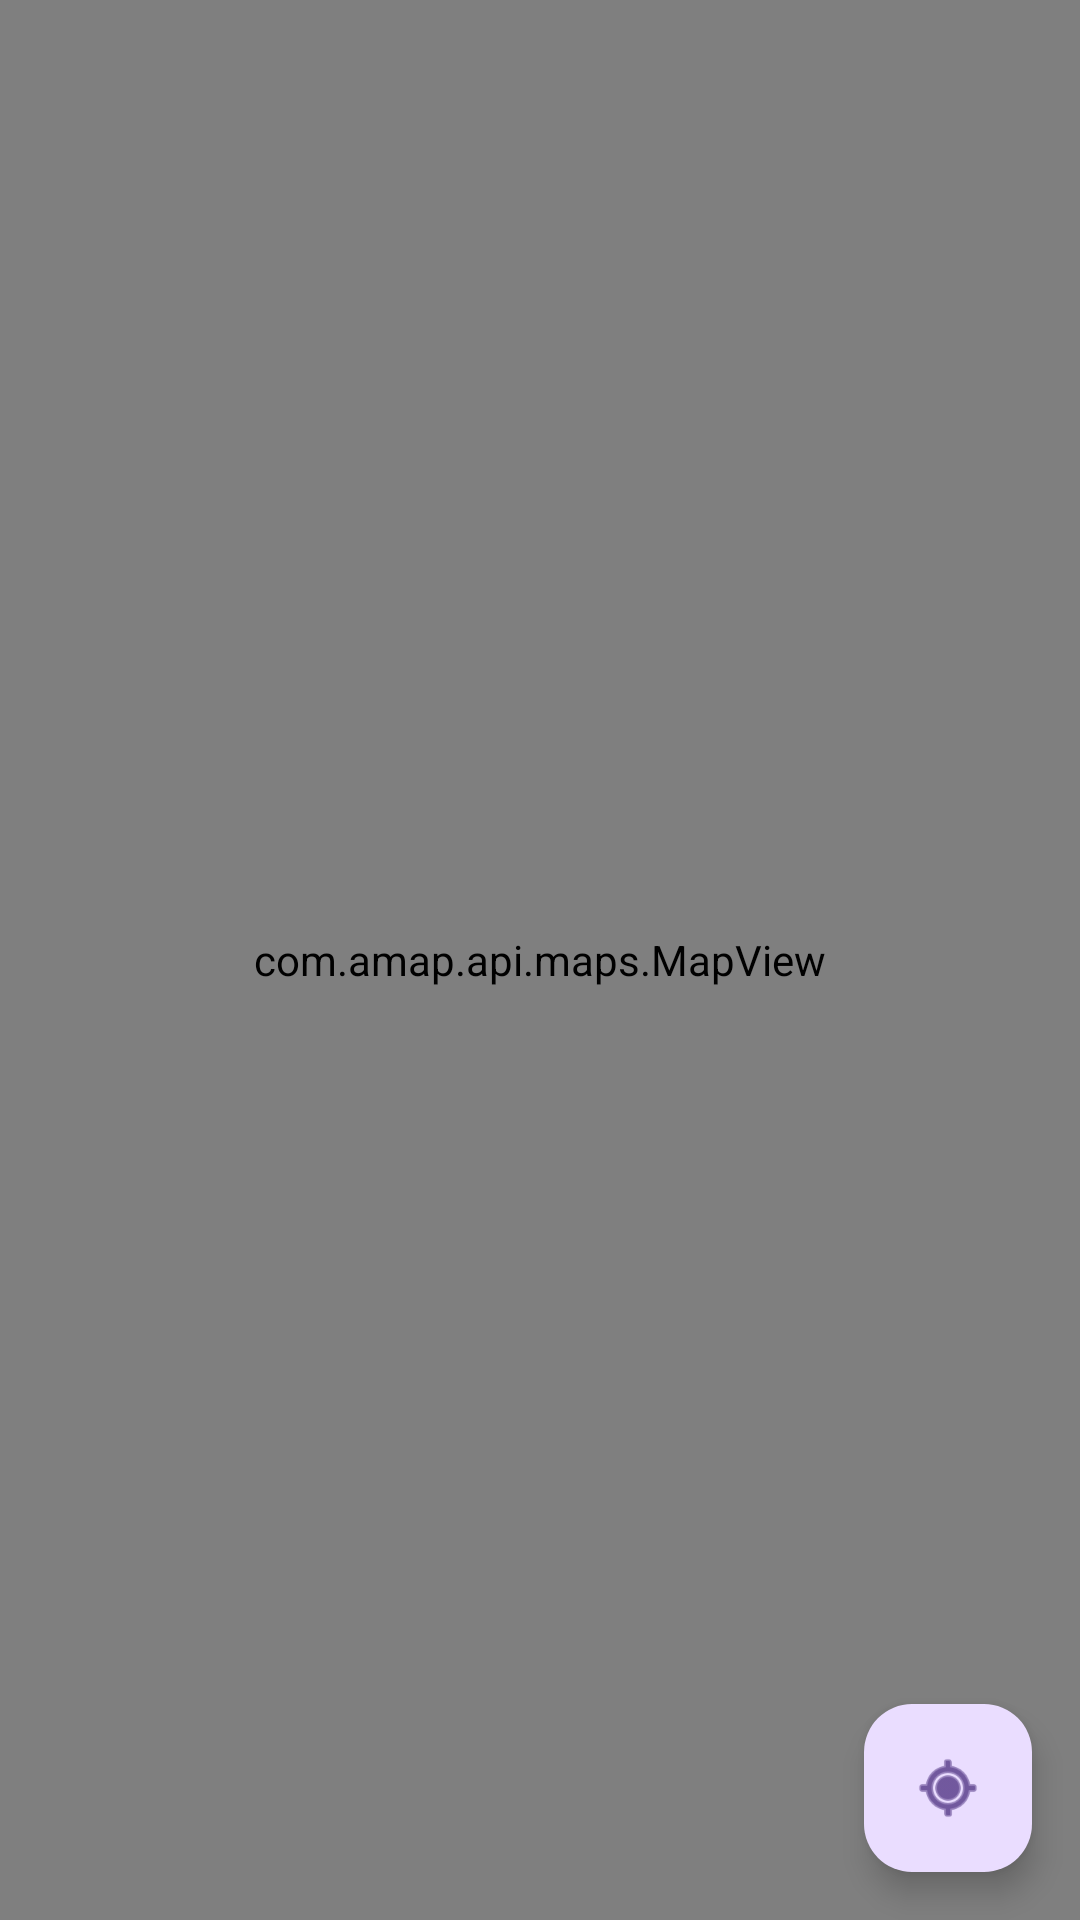

Point at icon controls on the screen. Image size 1080×1920, points as (x,y).
定位到当前位置: (948,1788)
